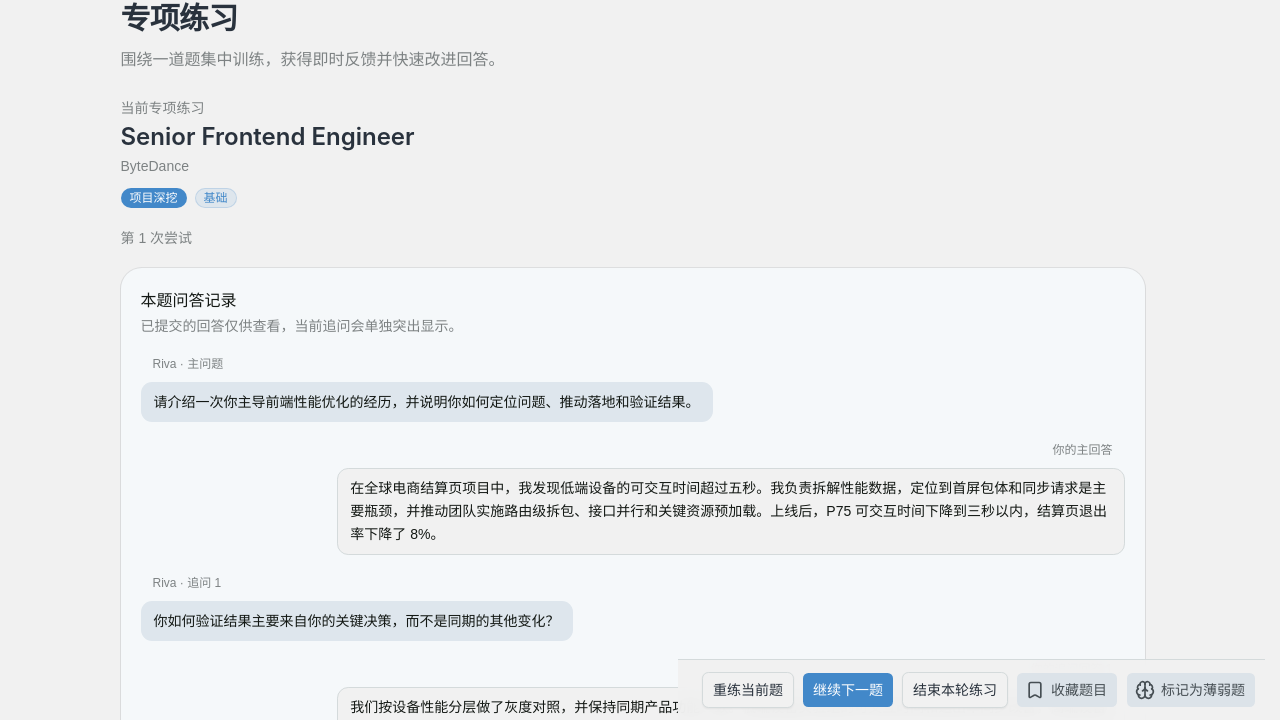
Test: PracticeView › shows safe next and end failures while remaining in review
Click the button "继续下一题": (848, 690) [802,672,894,708]
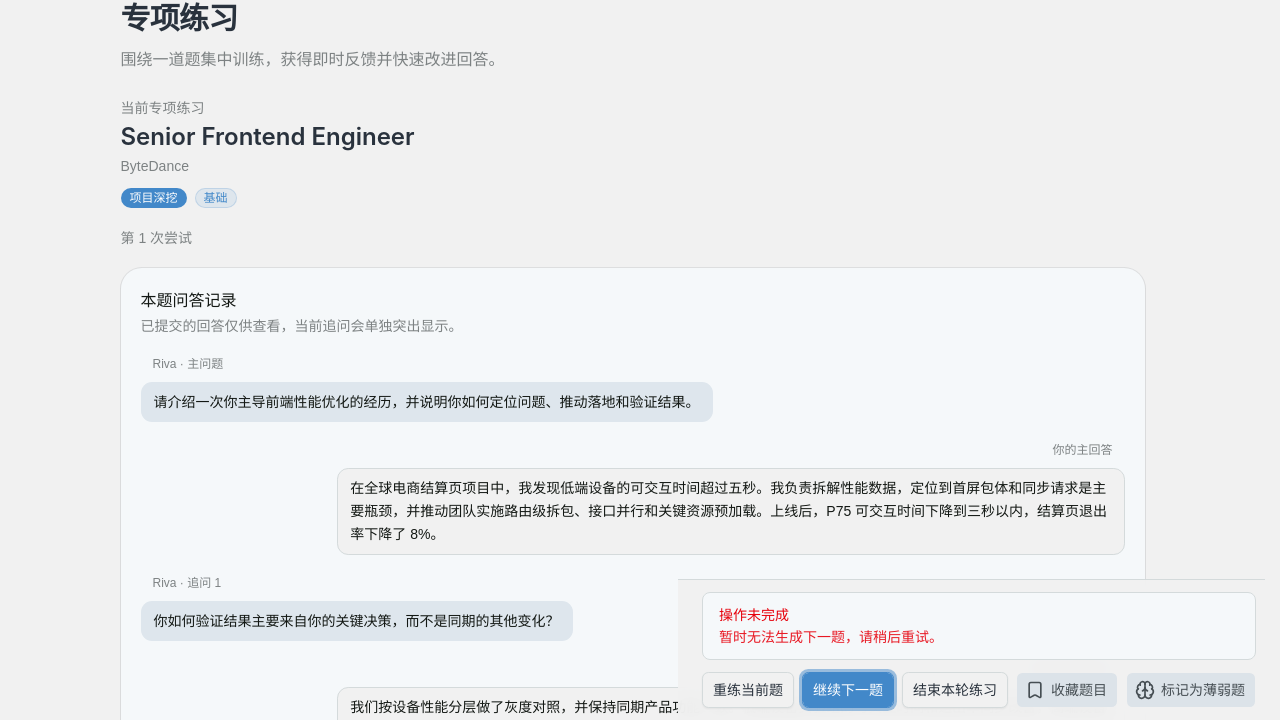
Expected: the message shows "暂时无法生成下一题，请稍后重试。", [719,629,943,645]
Click the button "结束本轮练习": (955, 690) [902,672,1008,708]
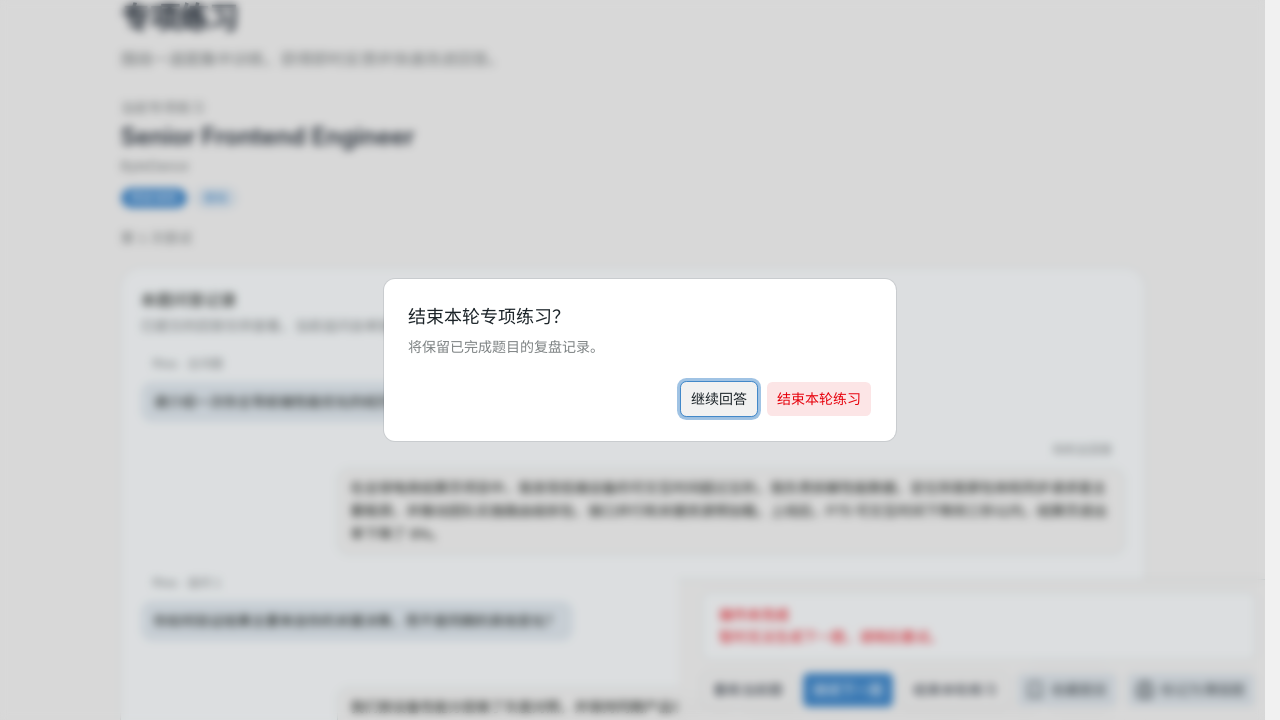
Click the button "结束本轮练习": (819, 399) [766,381,872,417]
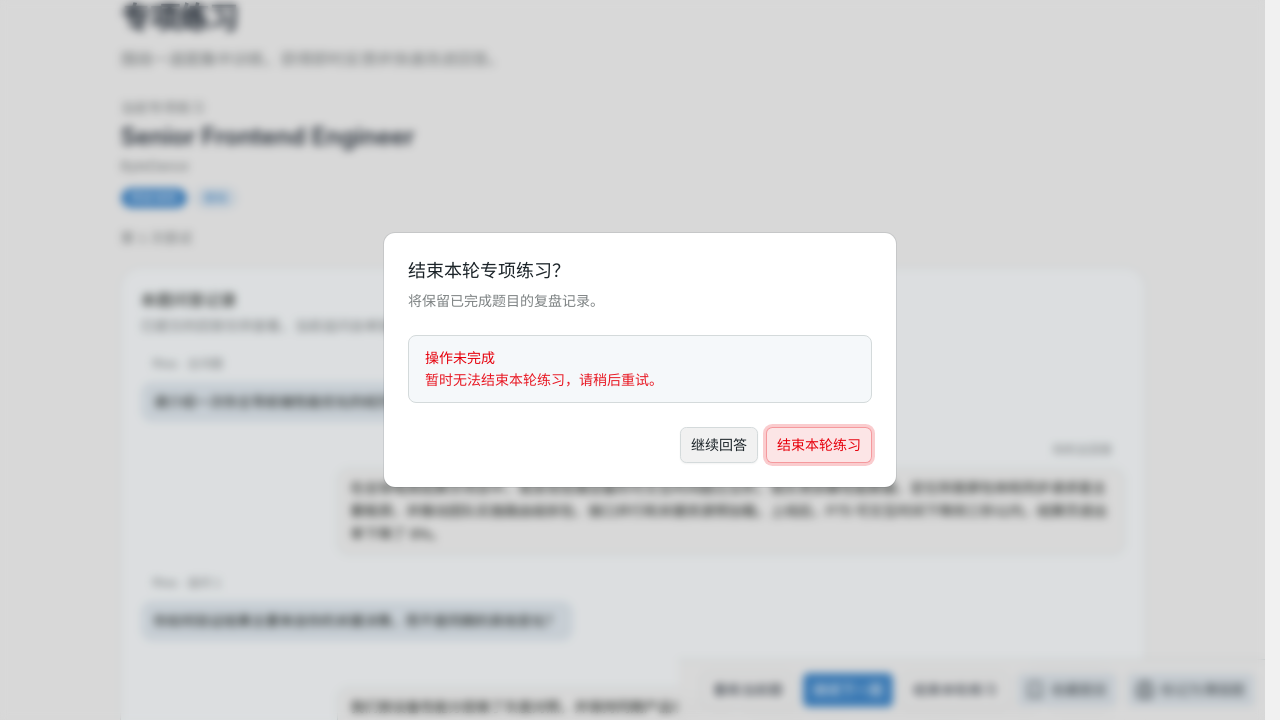
Expected: the dialog is shown, [384,233,896,487]
Expected: the message shows "暂时无法结束本轮练习，请稍后重试。", [425,372,663,388]
Click the button "结束本轮练习": (819, 445) [766,427,872,463]
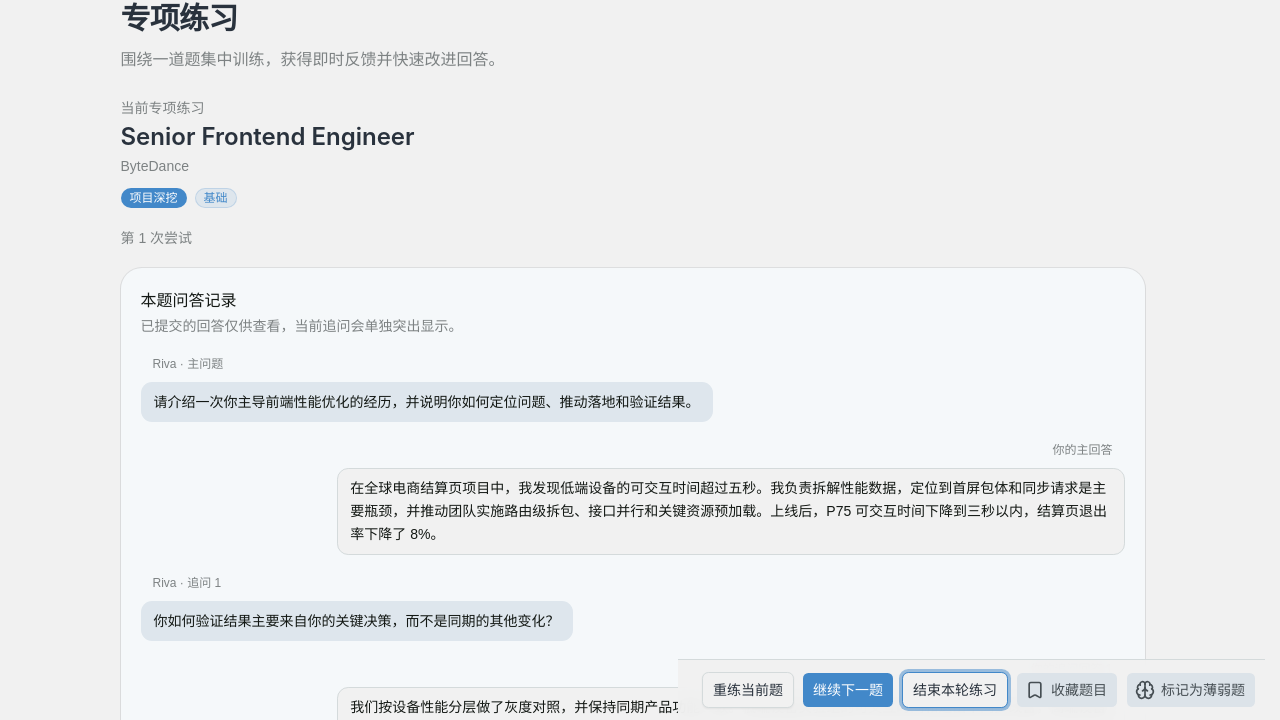
Expected: the dialog is gone
